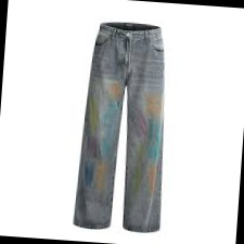earth: (146, 95, 162, 114), (147, 168, 158, 195), (95, 166, 106, 188), (109, 85, 122, 96)
